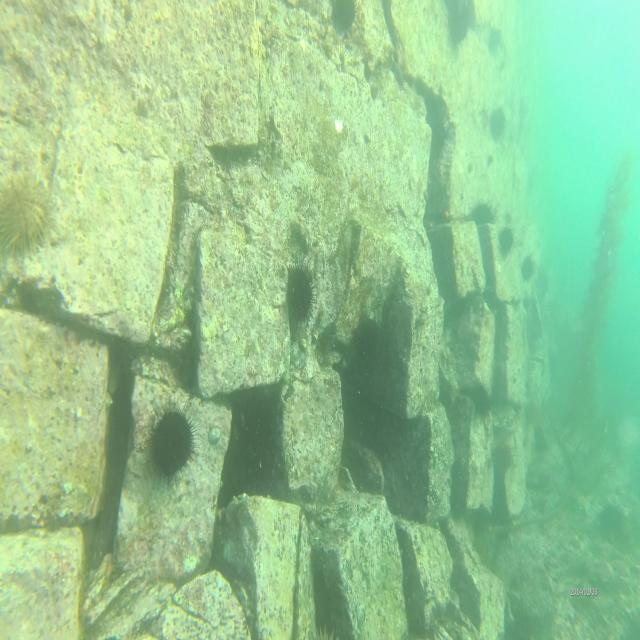echinus: (142, 392, 202, 498), (0, 170, 49, 267), (286, 256, 322, 328), (595, 499, 628, 547), (447, 0, 470, 47), (472, 374, 494, 419), (332, 0, 358, 36), (492, 440, 515, 480), (486, 23, 504, 62), (489, 108, 508, 144), (472, 201, 498, 224), (518, 249, 536, 281), (499, 222, 515, 258)
